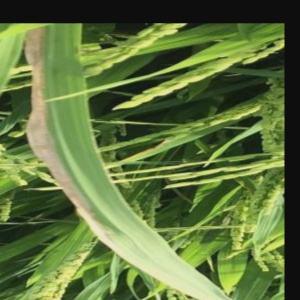Leaf_Blast: (23, 26, 88, 190)
